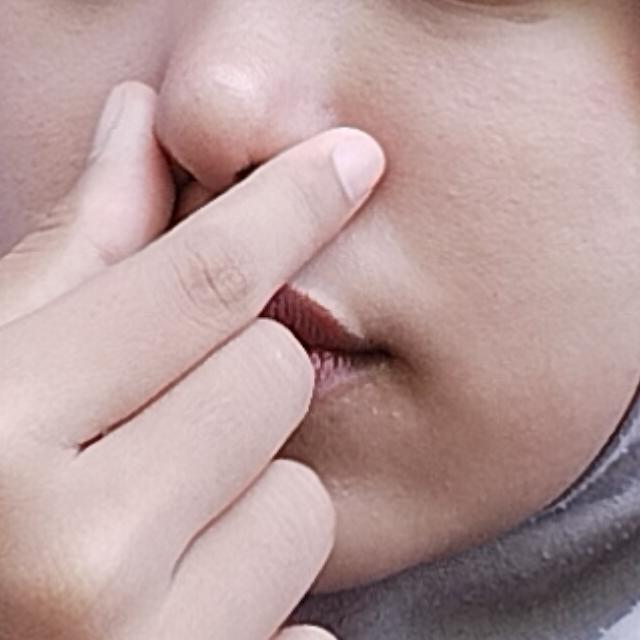bau: (0, 48, 510, 640)
